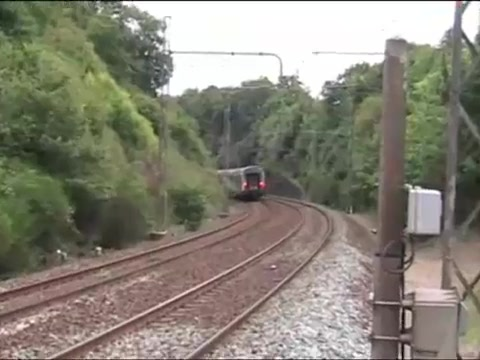train: (218, 166, 269, 203)
